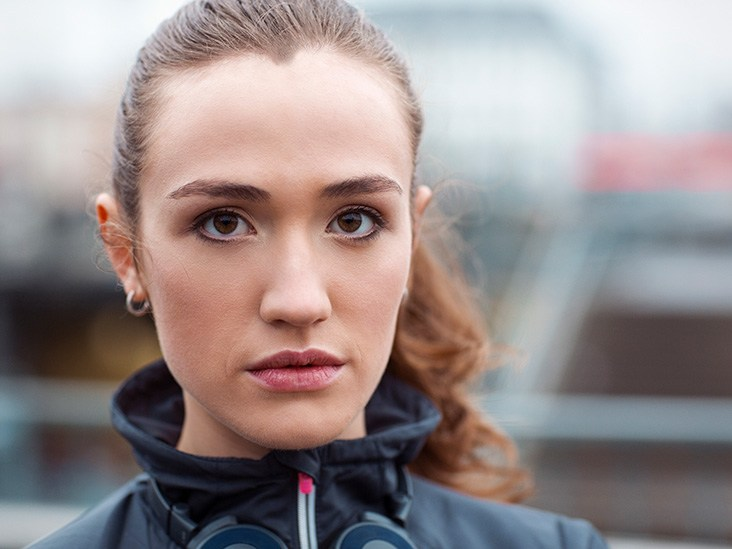bare: (160, 259, 399, 446)
